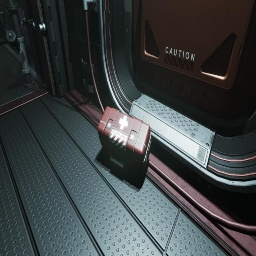FirstAidBox ,: (97, 106, 151, 174)
